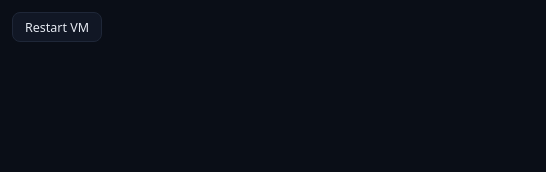
Scenario: RestartVM › asks before pulling the power, and Cancel changes nothing
Click the button "Restart VM": click(57, 27) [12,12,102,42]
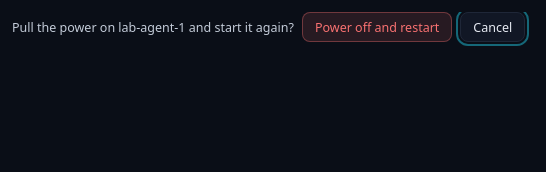
Expected: the text "Pull the power on lab-agent-1 and start it again?" is shown, [12,18,294,36]
Click the button "Cancel": click(493, 27) [460,12,525,42]
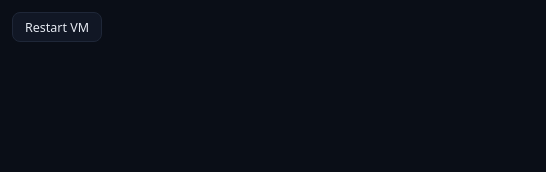
Expected: the button "Restart VM" is shown, [12,12,102,42]
